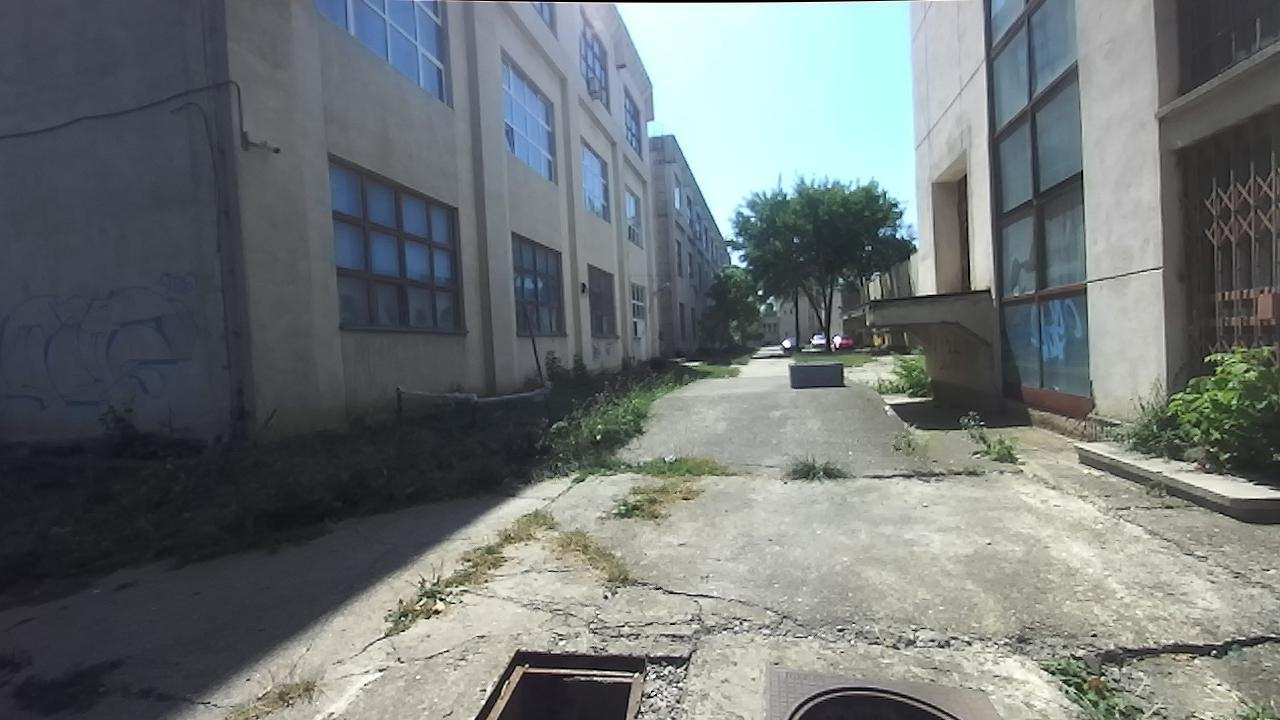drain: (473, 640, 647, 719), (769, 678, 966, 719)
